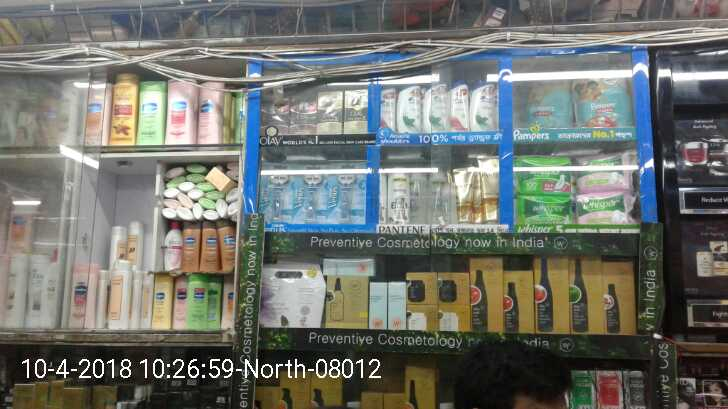venus: (328, 161, 364, 224), (263, 162, 295, 223), (299, 166, 326, 224)
